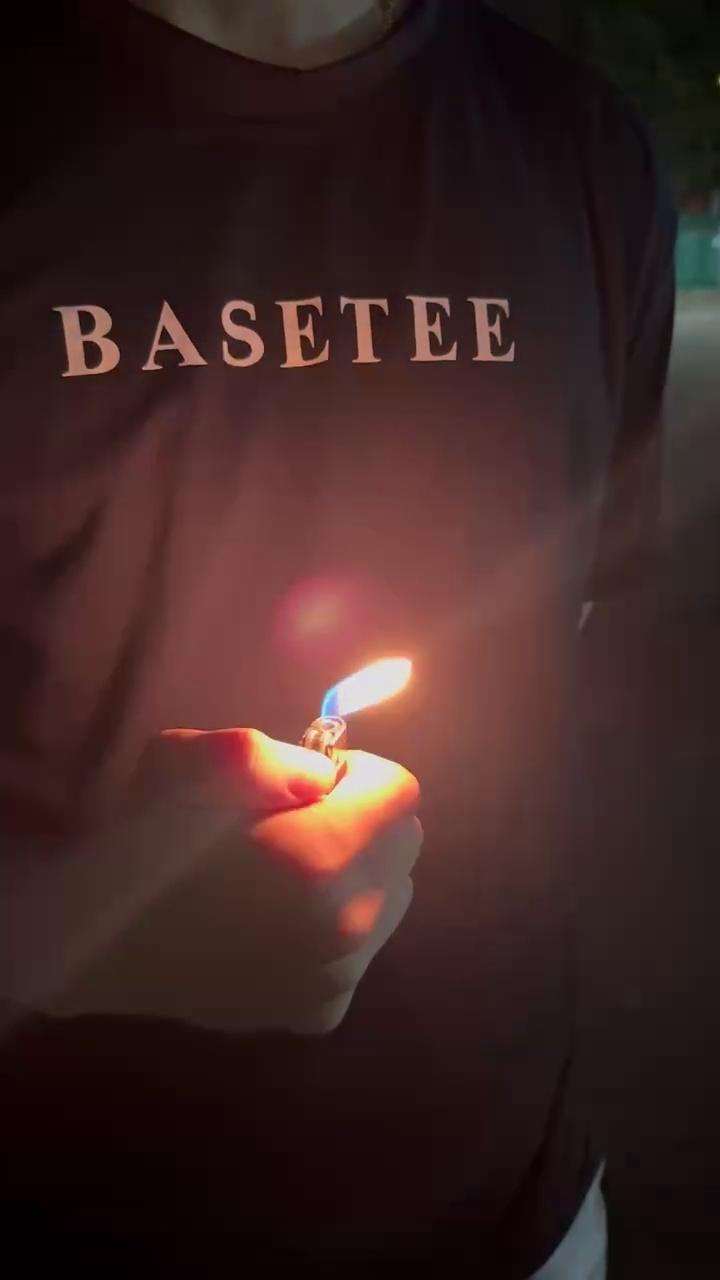Fire: (335, 650, 430, 732)
